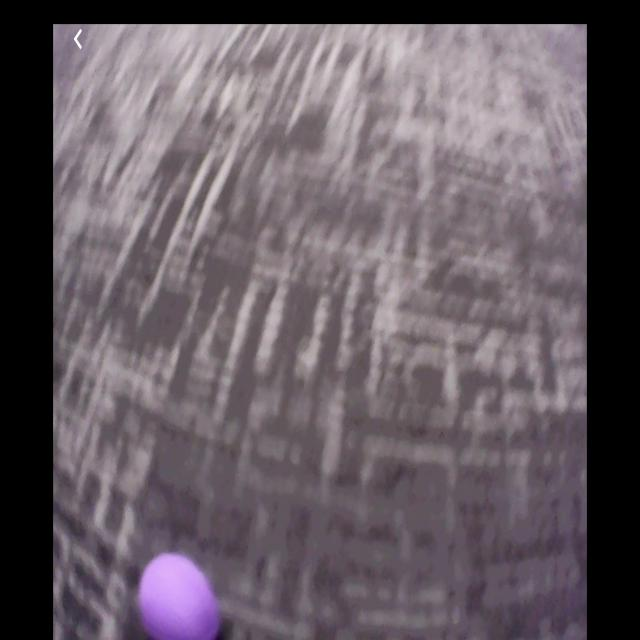ball: (139, 555, 222, 640)
